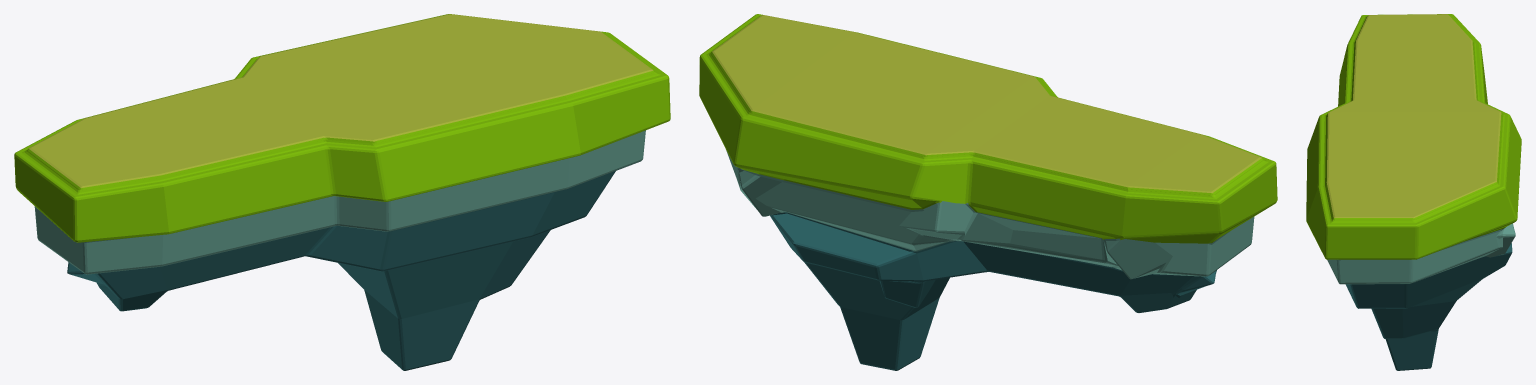
The model's file is TestRunv_Plane.fbx.
3 views of the same model, side by side, from view 1: azimuth 30°, elevation 25°; view 2: azimuth 150°, elevation 25°; view 3: azimuth 270°, elevation 25° (orthographic). The views are drawn at different scales.
Parts seen in each view (by area): view 1: Cube; view 2: Cube; view 3: Cube.
Boxes of the visible parts, x1,y1,x2,y2 form: Cube: [14, 14, 670, 370]; Cube: [699, 14, 1277, 370]; Cube: [1306, 14, 1521, 370].
Bounding box in the file's own units: 831 × 1933 × 915.
